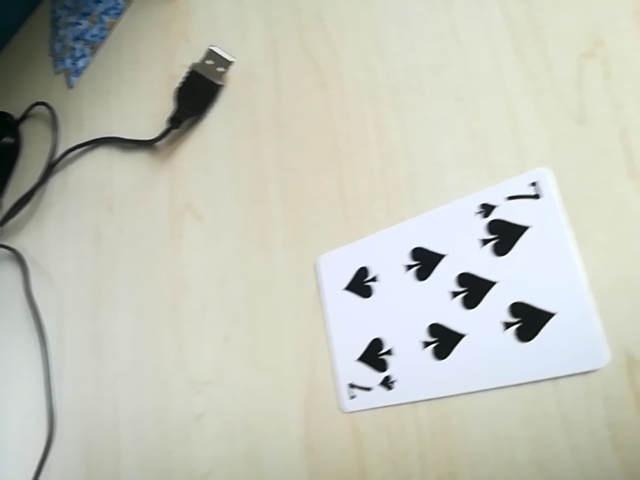ht 7: (474, 181, 550, 214), (340, 367, 401, 407)
